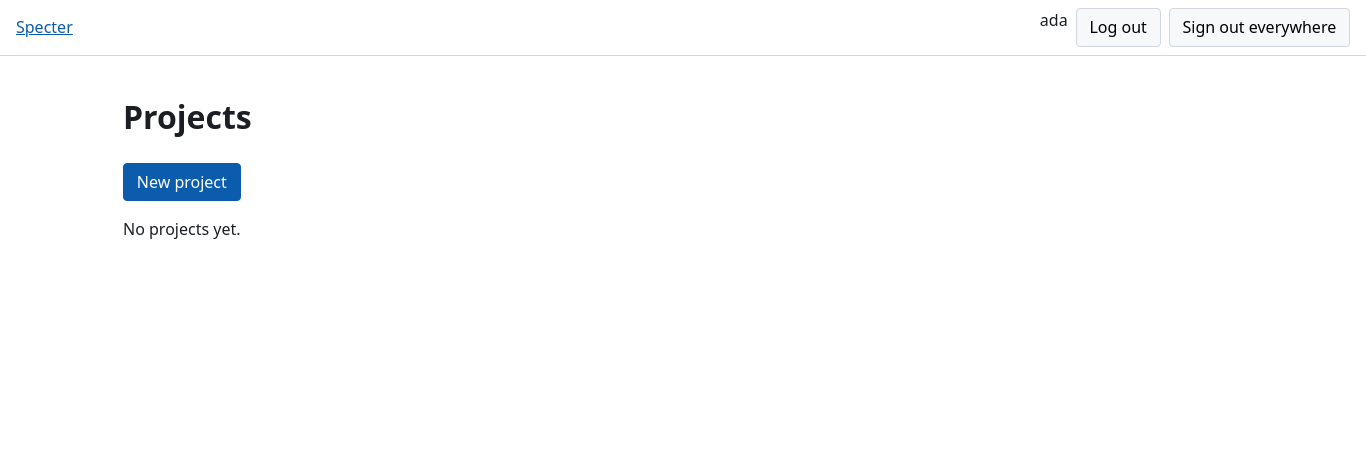
Test: ProjectsPage › New project › has labelled Name and Description fields
The image size is (1366, 462).
Step 1. Click the button "New project" → point(182, 182), box [123,163,241,202]
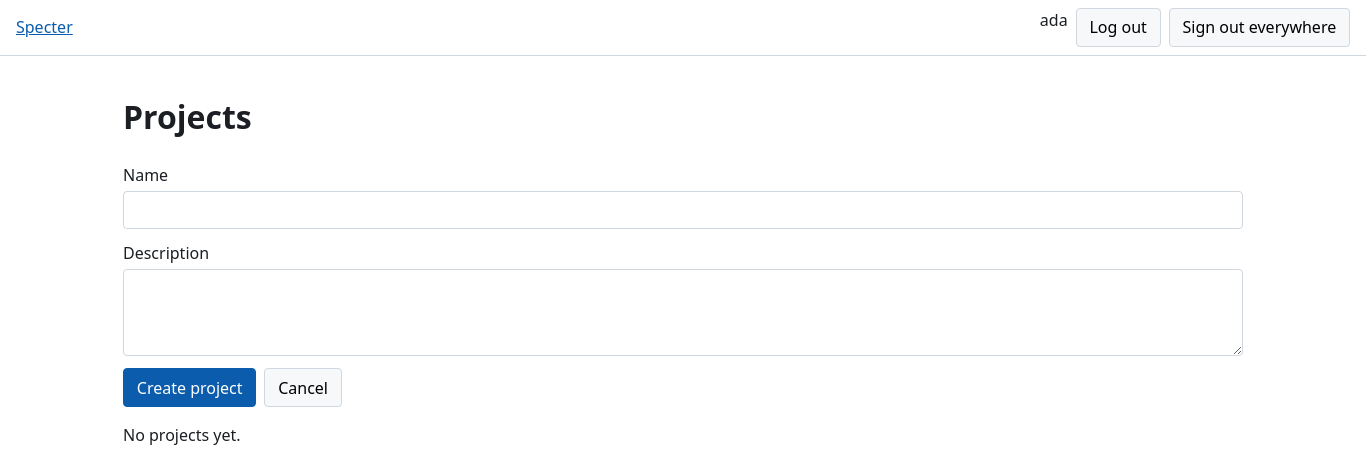
Expected: the field labelled "Name" is shown, [123,191,1243,230]
Expected: the text box labelled "Description" is shown, [123,269,1243,356]
